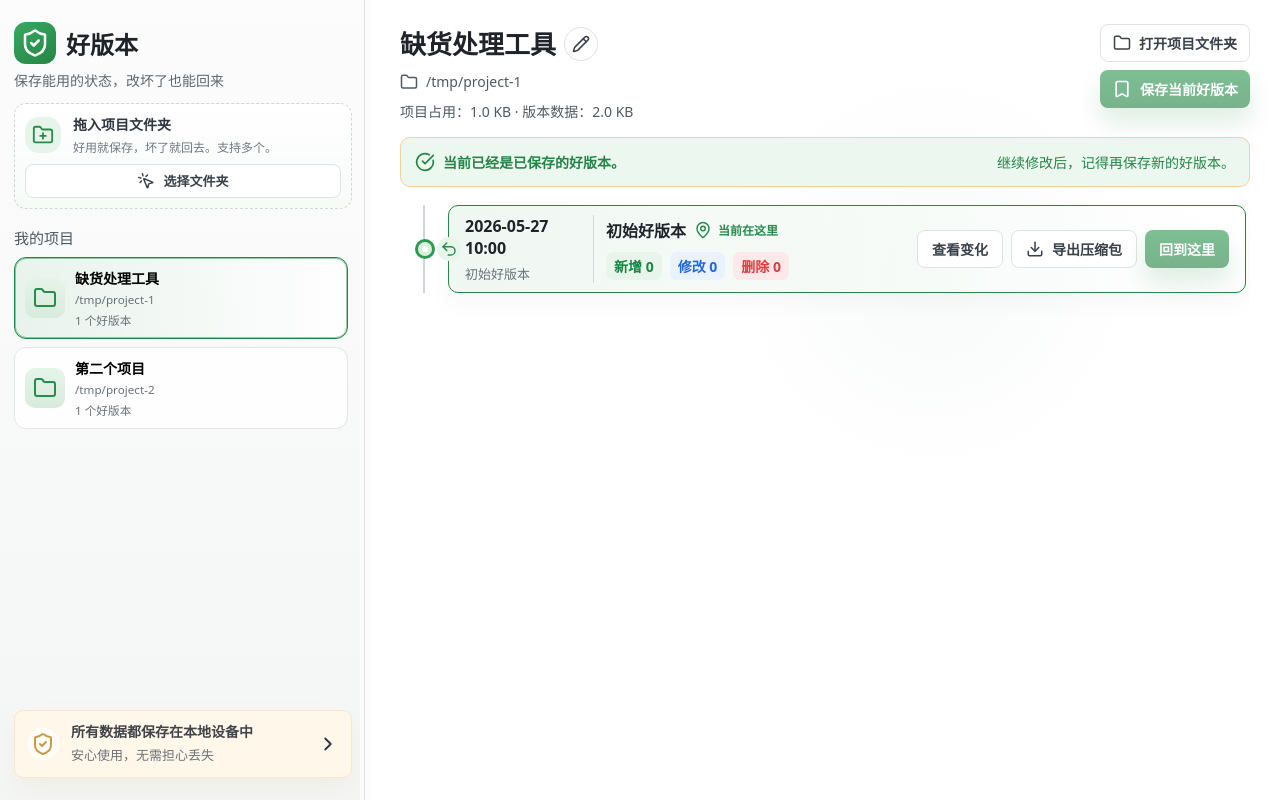
App › 添加项目按钮选择多个已存在项目时提示数量并切到最后一个
Expected: the heading "缺货处理工具" is shown, top-left (400, 24), bottom-right (556, 62)
Click the button "选择文件夹".
click(183, 181)  # box top-left (25, 164), bottom-right (341, 198)
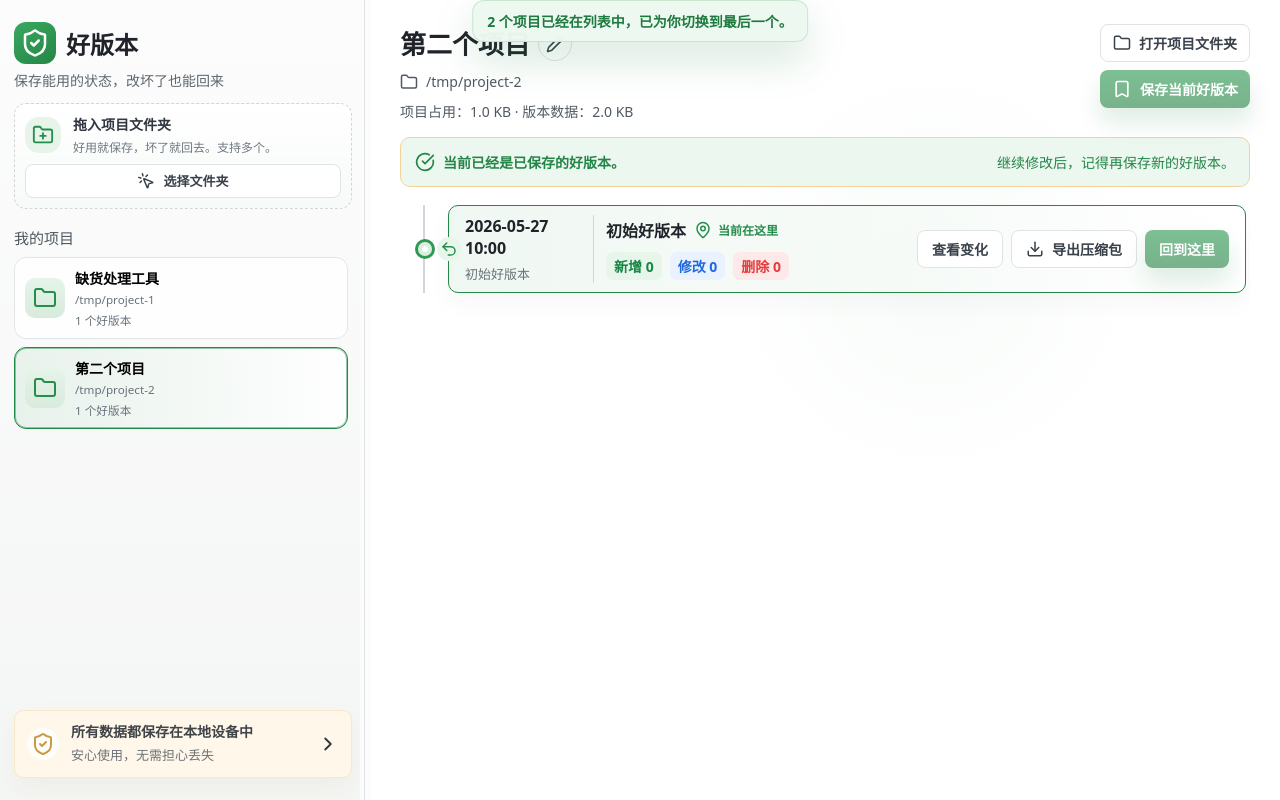
Expected: the text "2 个项目已经在列表中，已为你切换到最后一个。" is shown, top-left (472, 0), bottom-right (808, 42)
Expected: the heading "第二个项目" is shown, top-left (400, 24), bottom-right (530, 62)
